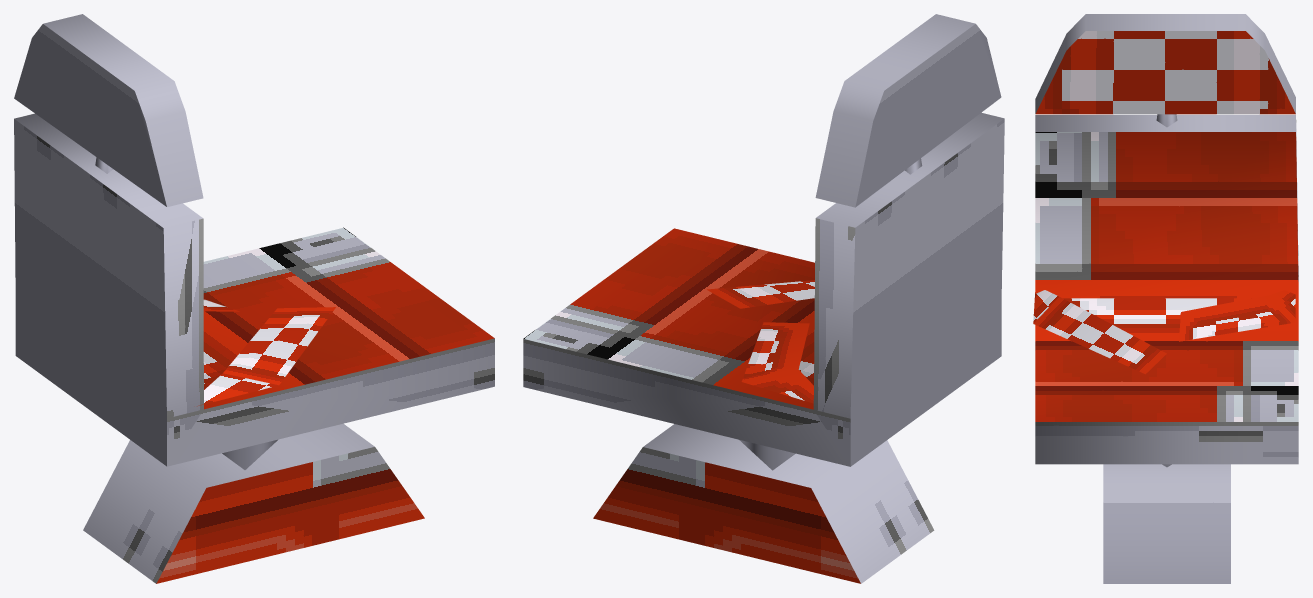
The picture shows the model from 3 angles, left to right: view 1: azimuth 30°, elevation 25°; view 2: azimuth 150°, elevation 25°; view 3: azimuth 270°, elevation 25°; orthographic projection. The views are drawn at different scales.
Parts seen in each view (by area): view 1: 3577kg_18_isu; view 2: 3577kg_18_isu; view 3: 3577kg_18_isu.
Part boxes in pixels (left/top/right/bottom): 3577kg_18_isu: left=14, top=14, right=494, bottom=583; 3577kg_18_isu: left=523, top=14, right=1004, bottom=583; 3577kg_18_isu: left=1033, top=14, right=1298, bottom=583.
Bounding box in the file's own units: 0.7588 × 1.11 × 0.605.
Materials: 1 (1 with a texture image).
